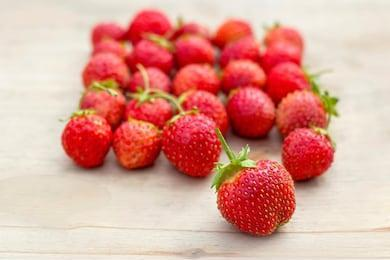Fresa: (212, 152, 300, 238), (161, 107, 230, 182), (58, 107, 117, 174), (219, 82, 278, 145), (280, 125, 338, 185), (276, 86, 338, 141), (111, 118, 164, 173), (77, 80, 126, 126), (123, 89, 173, 131)
